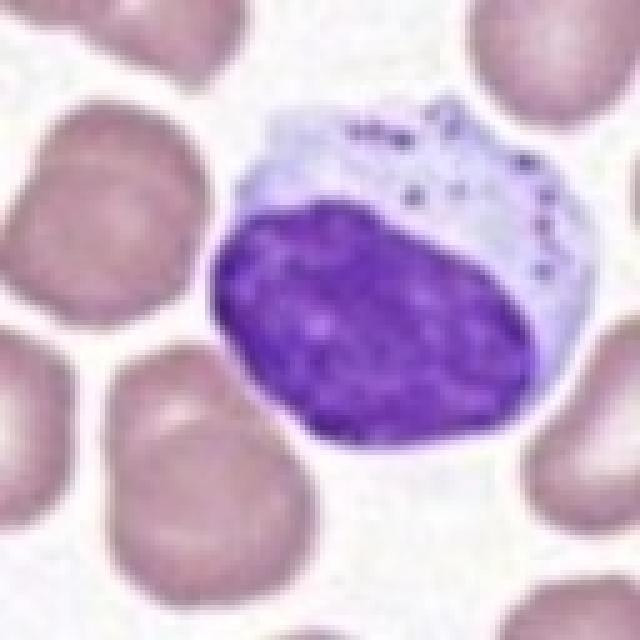lympho: (210, 88, 604, 462)
